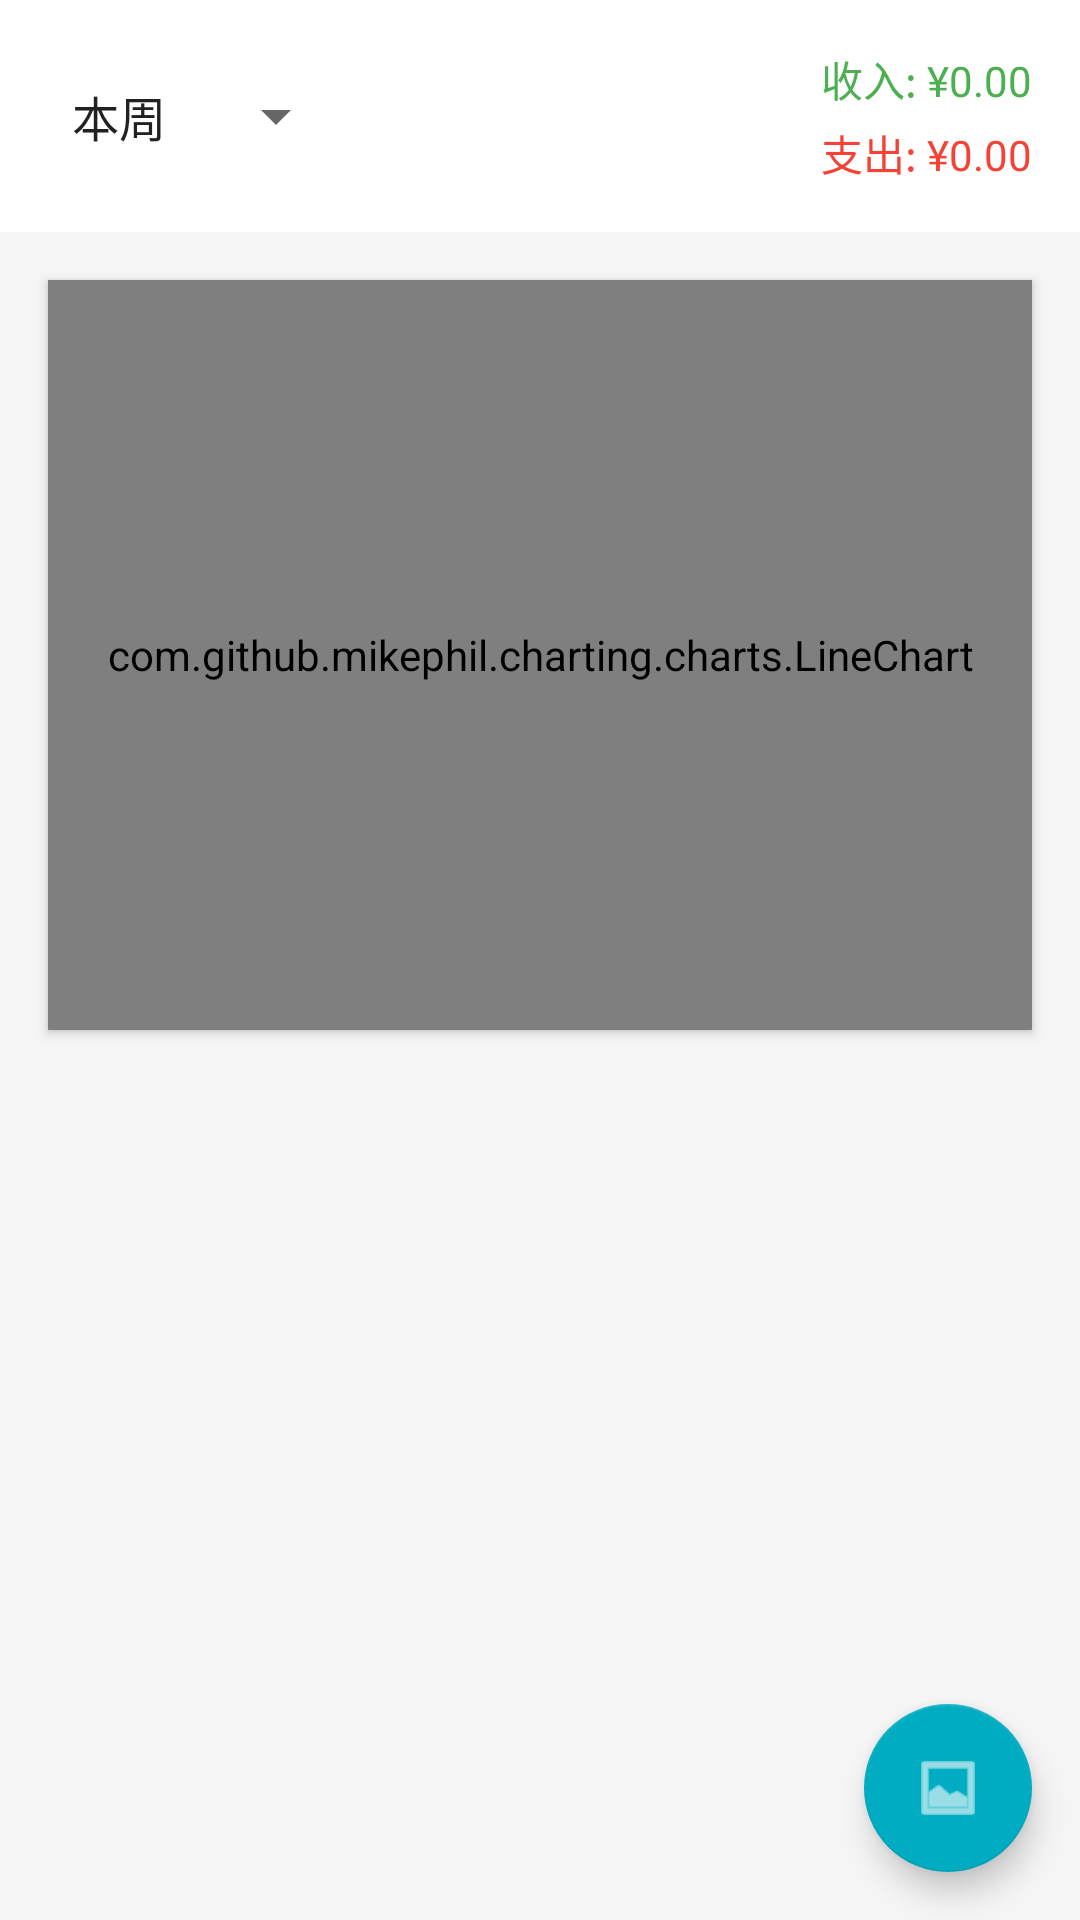

Icon bounding boxes for this 1080*1920 phone screenshot, format (x1, y1, x2, y2):
查看图片: (864, 1704, 1032, 1872)
